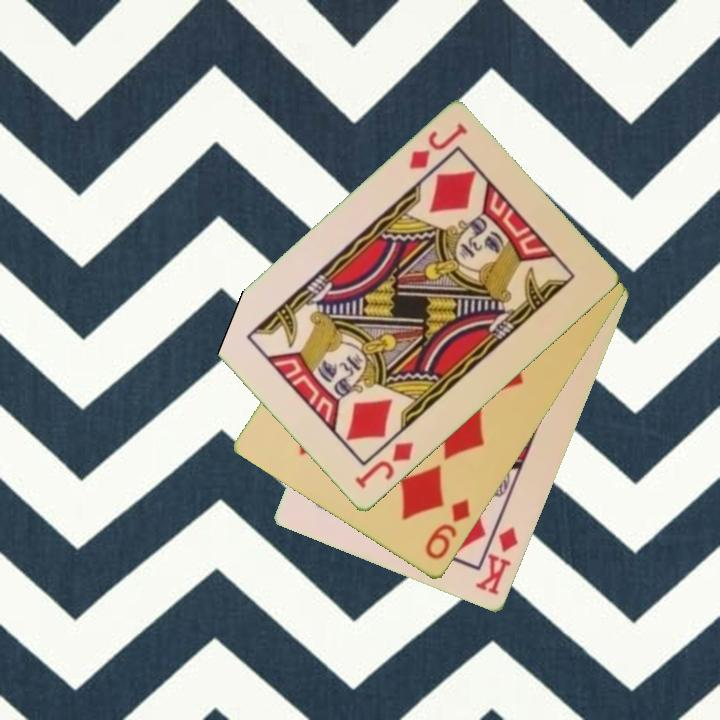9d: (421, 496, 473, 563)
Jd: (351, 438, 417, 492), (405, 120, 471, 173)
Kd: (471, 524, 521, 599)
